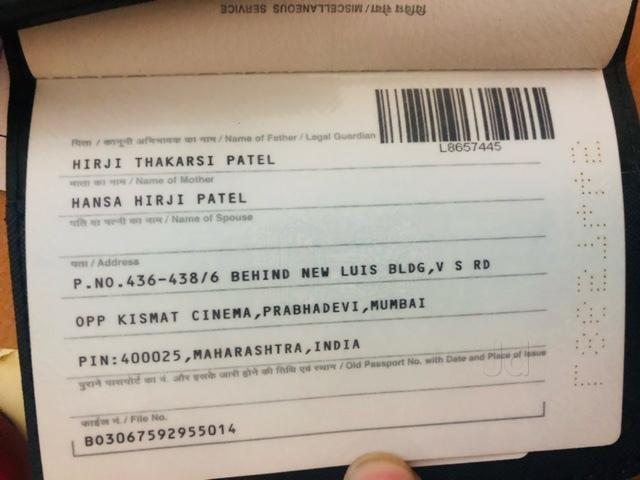File_no: (71, 411, 246, 458)
address: (61, 249, 509, 378)
father_name: (59, 150, 282, 173)
mother_name: (65, 190, 254, 212)
passport_no: (431, 134, 523, 160)
